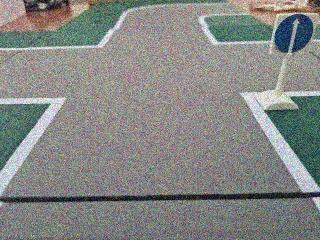straight: (268, 12, 320, 57)
